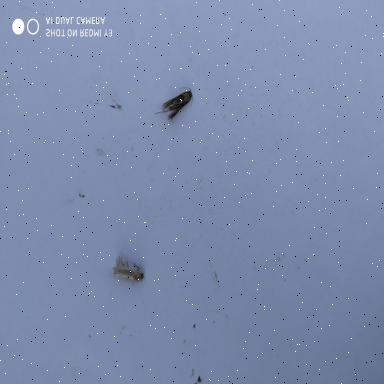pbw: (155, 86, 193, 122), (112, 256, 146, 286)
